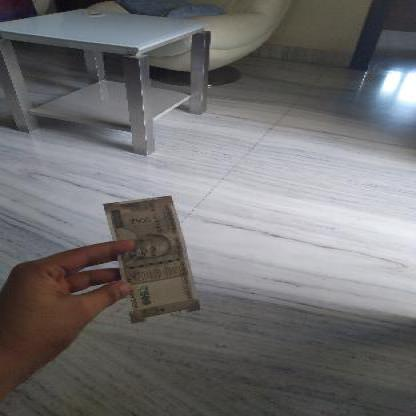New500Front: (110, 201, 186, 324)
